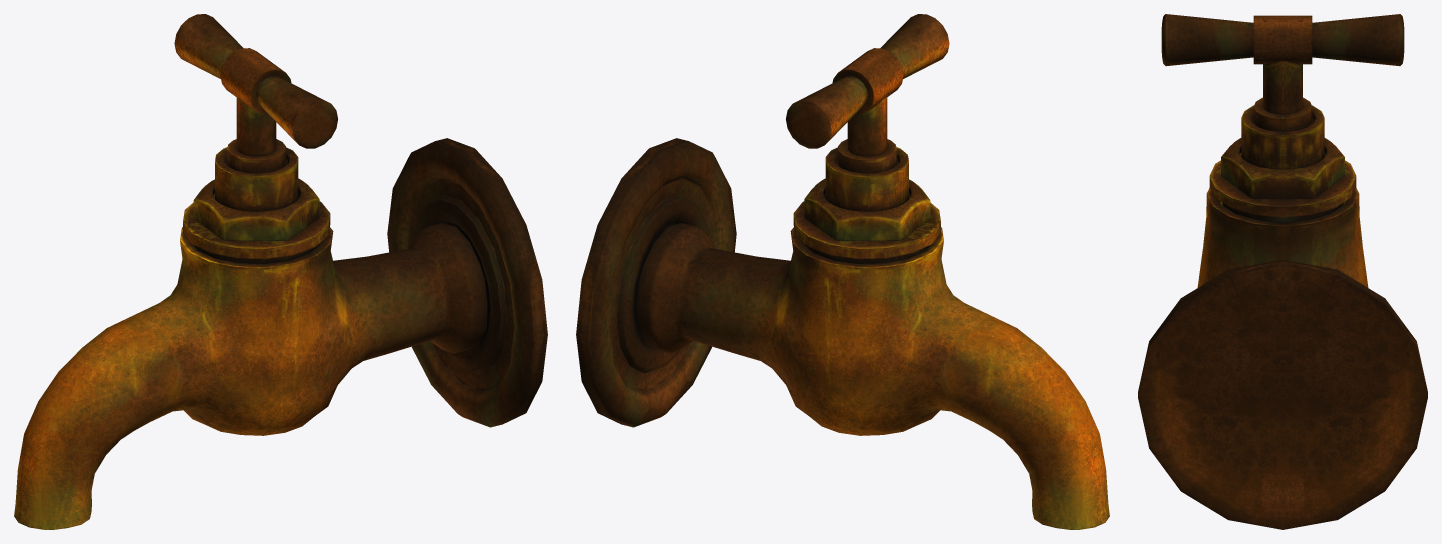
The model's file is tap.glb.
3 renders of one model, left to right at view 1: azimuth 30°, elevation 25°; view 2: azimuth 150°, elevation 25°; view 3: azimuth 270°, elevation 25°, orthographic.
Parts seen in each view (by area): view 1: Object_2; view 2: Object_2; view 3: Object_2.
Part boxes in pixels (<box>): Object_2: <box>14,14,547,529</box>; Object_2: <box>576,14,1109,529</box>; Object_2: <box>1138,14,1427,529</box>.
Size of the model in its own units: 8.33 by 7.15 by 4.61.
Materials: 1 (1 with a texture image).
